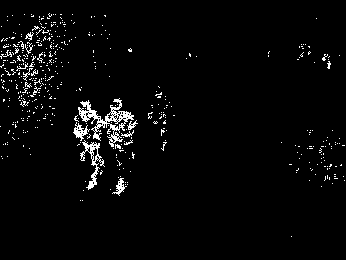person: (104, 97, 137, 197), (71, 101, 107, 192), (147, 86, 175, 153)
